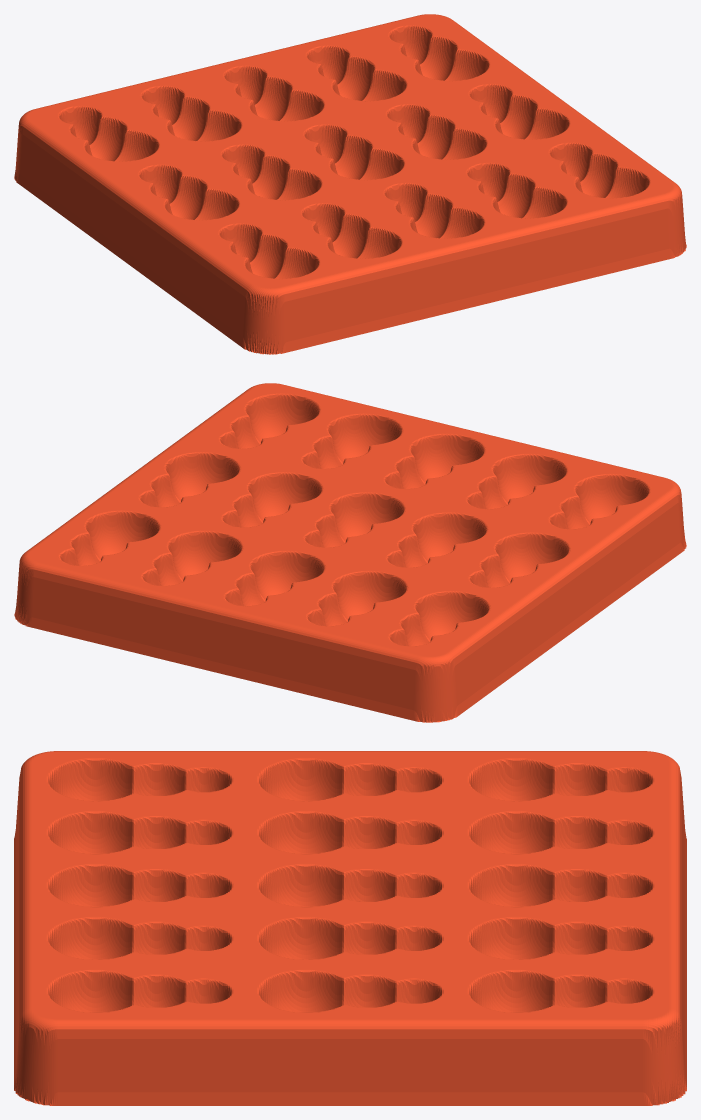
File: mold.glb
3 renders of one model, top to bottom at view 1: azimuth 30°, elevation 25°; view 2: azimuth 150°, elevation 25°; view 3: azimuth 270°, elevation 25°, orthographic. The views are drawn at different scales.
Parts seen in each view (by area): view 1: geometry_0; view 2: geometry_0; view 3: geometry_0.
Part boxes in pixels (left/top/right/bottom): geometry_0: left=14, top=14, right=686, bottom=354; geometry_0: left=14, top=383, right=686, bottom=722; geometry_0: left=14, top=751, right=686, bottom=1105.
Bounding box in the file's own units: 0.1392 × 0.0182 × 0.1403.
